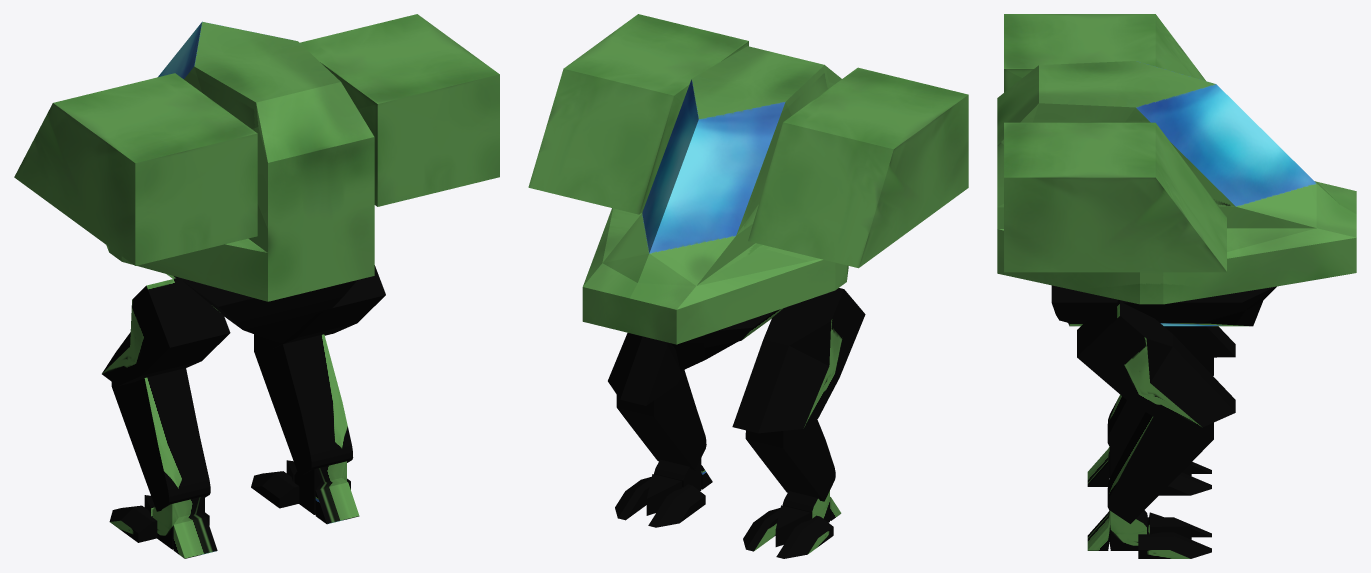
Rendered from MetalSear_Full.fbx.
The picture shows the model from 3 angles, left to right: view 1: azimuth 30°, elevation 25°; view 2: azimuth 150°, elevation 25°; view 3: azimuth 270°, elevation 25°; orthographic projection. The views are drawn at different scales.
Parts seen in each view (by area): view 1: Legs; view 2: Legs; view 3: Legs.
Part boxes in pixels (left/top/right/bottom): Legs: left=14, top=14, right=499, bottom=558; Legs: left=528, top=14, right=968, bottom=558; Legs: left=997, top=14, right=1356, bottom=558.
Bounding box in the file's own units: 438 × 534 × 407.
